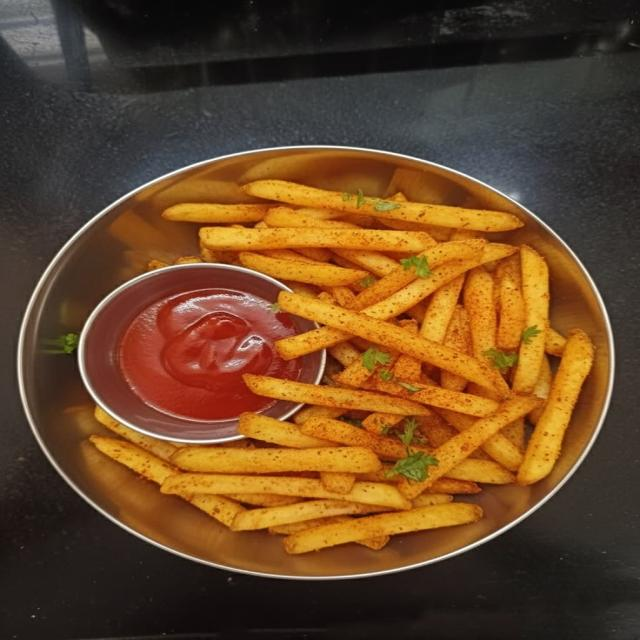potato fries: (92, 180, 593, 553)
